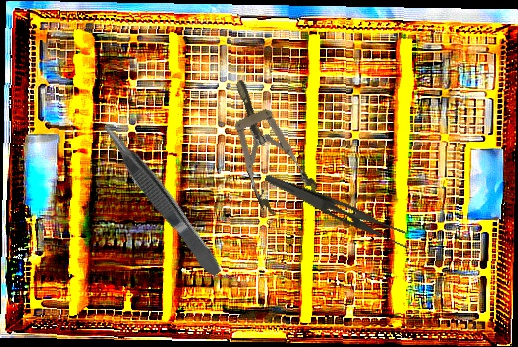Dressing Forceps: (258, 173, 416, 252)
Speculum: (211, 68, 324, 224)
Tissue Forceps: (96, 117, 225, 282)
